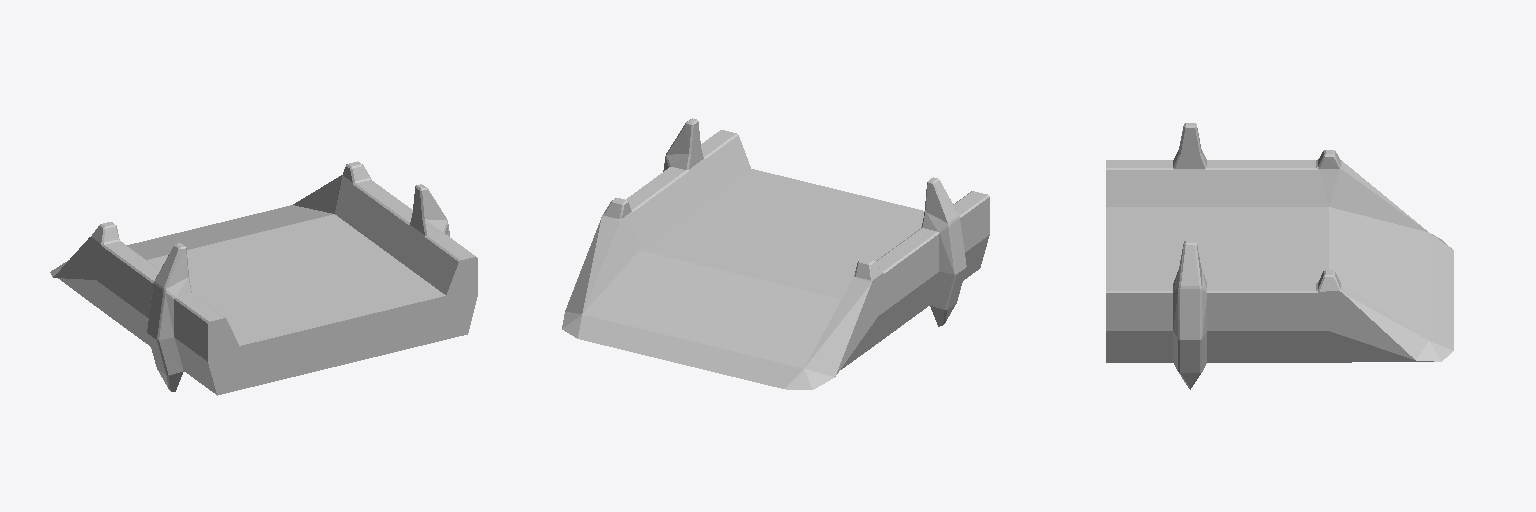
The model's file is SkyRoadRamp.obj.
3 views of the same model, side by side, from view 1: azimuth 30°, elevation 25°; view 2: azimuth 150°, elevation 25°; view 3: azimuth 270°, elevation 25° (orthographic).
Visible parts, largest first — view 1: pCube27; view 2: pCube27; view 3: pCube27.
Boxes of the visible parts, <box> form: pCube27: <box>50,161,477,395</box>; pCube27: <box>562,118,989,389</box>; pCube27: <box>1106,123,1453,389</box>.
Size of the model in its own units: 8.62 by 4.04 by 8.7.